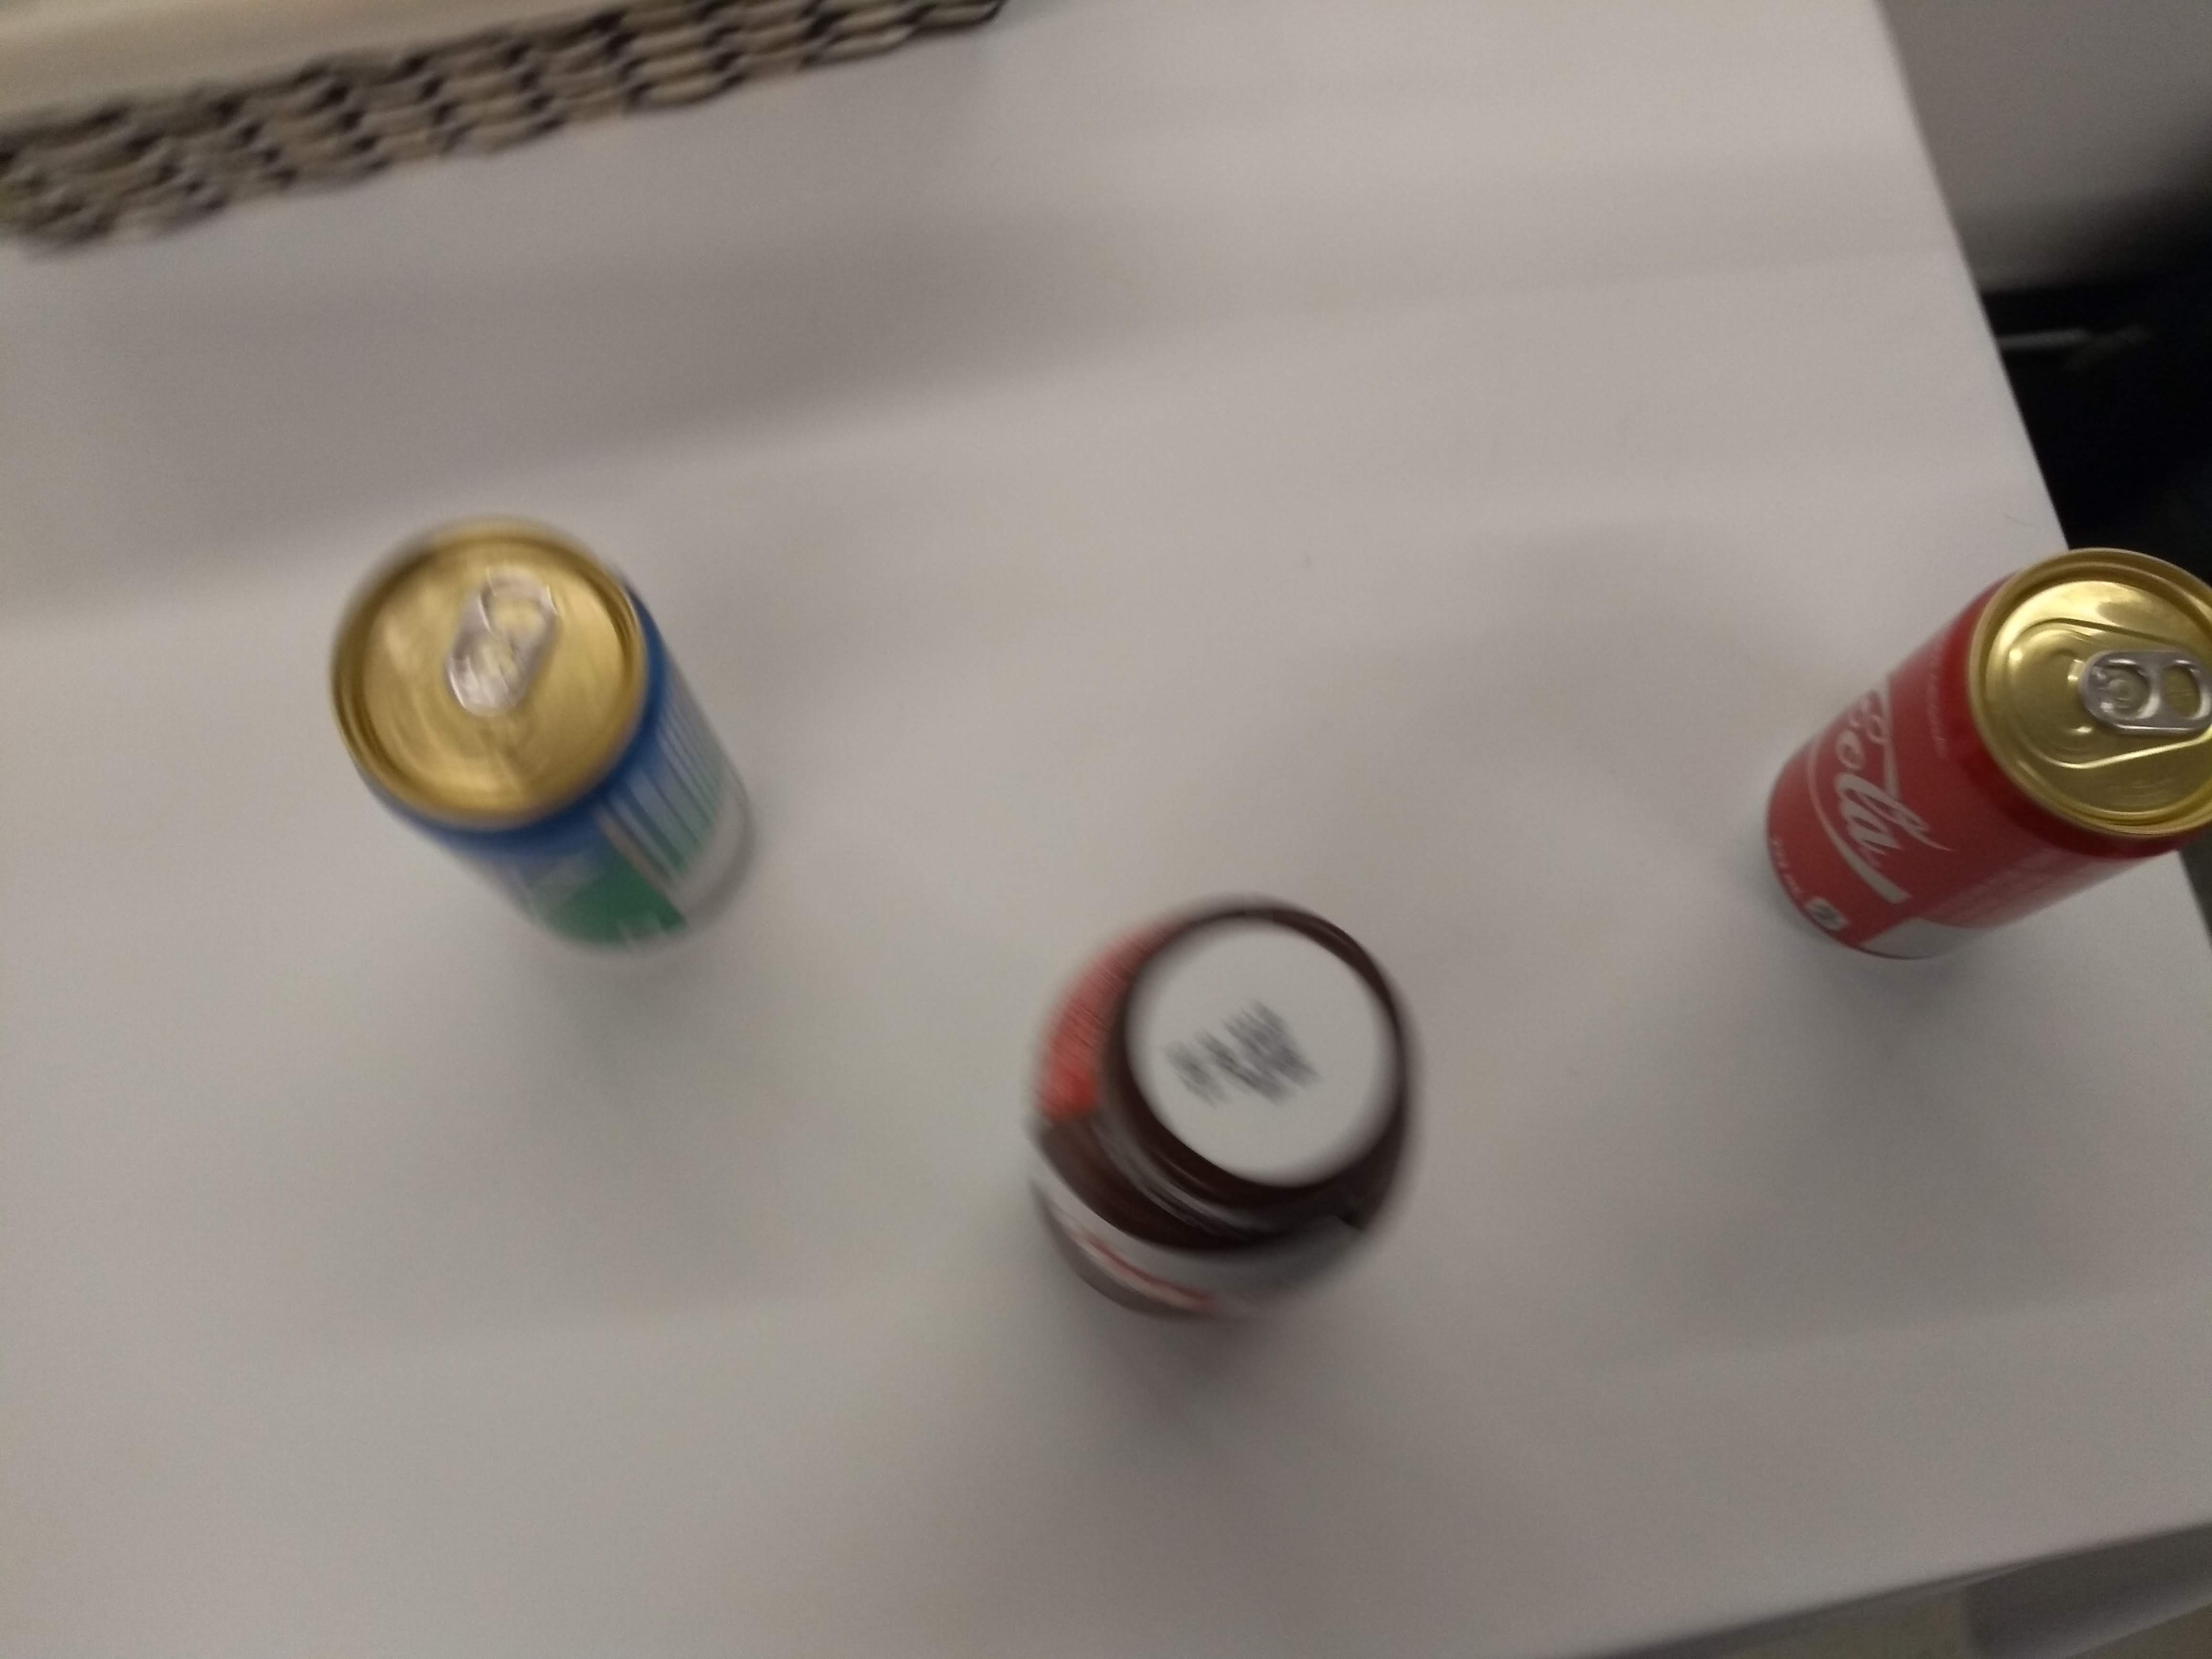chocolate_drink: (1014, 884, 1430, 1347)
coke: (1750, 538, 2210, 985)
sprite: (307, 511, 775, 962)
